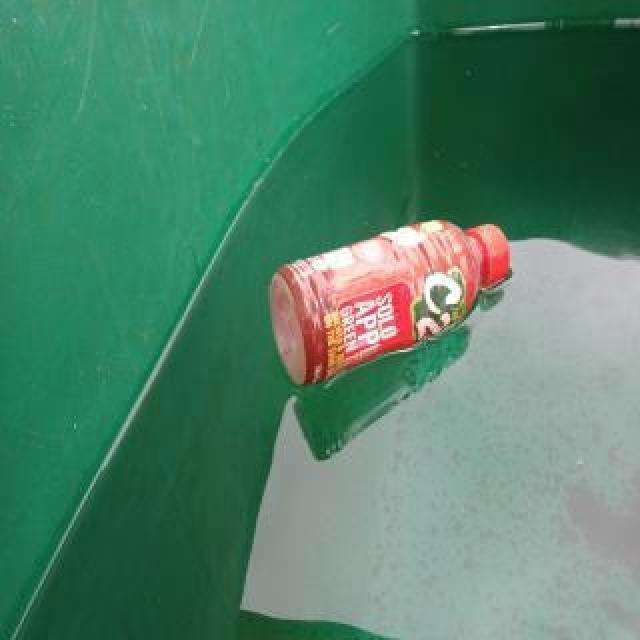bottle: (267, 214, 511, 390)
